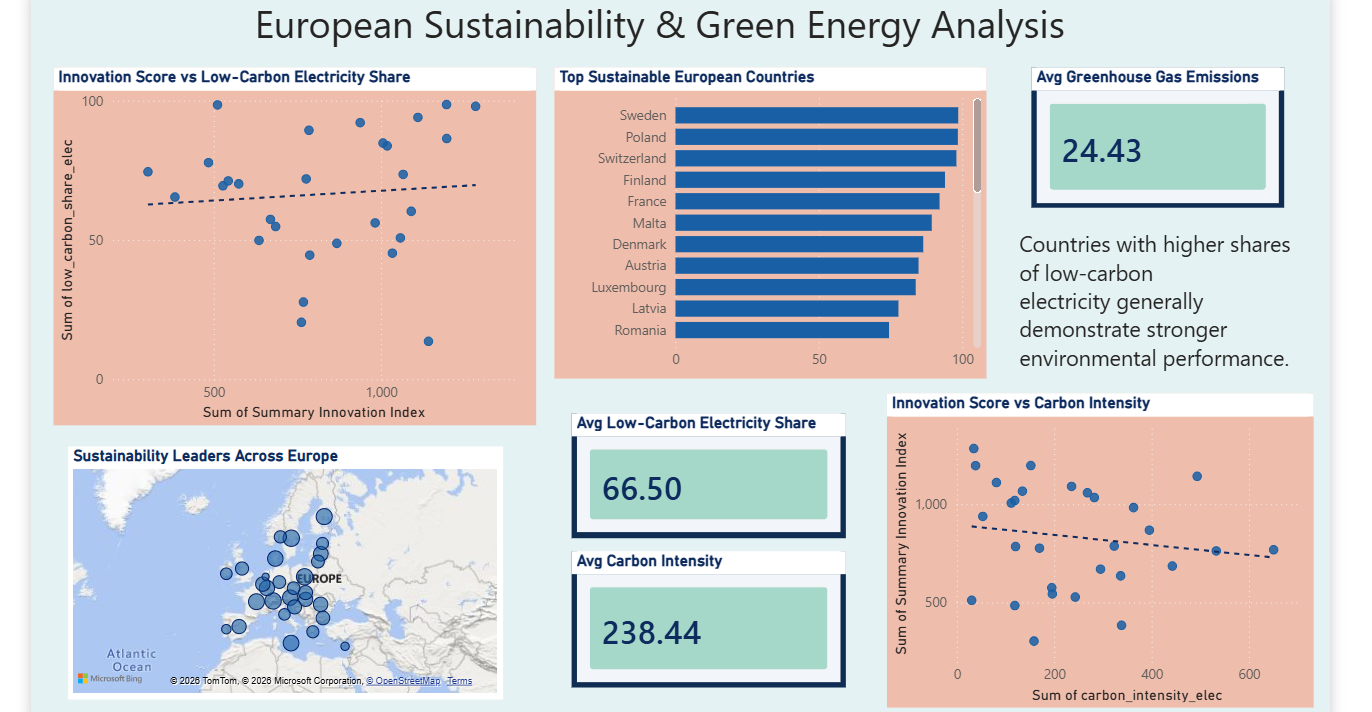

The dashboard page shown, as its layout file describes it:
{"tool":"powerbi","page":{"name":"Page 2","canvas":[1280,720],"ordinal":1},"visuals":[{"type":"scatterChart","title":"Innovation Score vs Low-Carbon Electricity Share","fields":{"Category":["Sheet2.Country name"],"X":["Sum(Sheet2.Summary Innovation Index)"],"Y":["Sum(Sheet2.low_carbon_share_elec)"]},"box":[22.2,74.4,475.1,352.4],"z":0},{"type":"barChart","title":"Top Sustainable European Countries","fields":{"Category":["Sheet2.Country name"],"Y":["Sum(Sheet2.low_carbon_share_elec)"]},"box":[515.6,74.4,425.5,306.7],"z":1000},{"type":"map","title":"Sustainability Leaders Across Europe","fields":{"Category":["Sheet2.Country name"],"Size":["Sum(Sheet2.low_carbon_share_elec)"]},"box":[36.5,447.7,428.1,248],"z":2000},{"type":"scatterChart","title":"Innovation Score vs Carbon Intensity","fields":{"Category":["Sheet2.Country name"],"Y":["Sum(Sheet2.Summary Innovation Index)"],"X":["Sum(Sheet2.carbon_intensity_elec)"]},"box":[843.2,395.5,420.3,309.4],"z":3000},{"type":"cardVisual","title":"Avg Low-Carbon Electricity Share","fields":{"Data":["Avg(Sheet2.low_carbon_share_elec)"]},"box":[532.6,415.1,270.2,122.7],"z":4000},{"type":"cardVisual","title":"Avg Carbon Intensity","fields":{"Data":["Avg(Sheet2.carbon_intensity_elec)"]},"box":[532.6,550.8,270.2,134.4],"z":5000},{"type":"cardVisual","title":"Avg Greenhouse Gas Emissions","fields":{"Data":["Avg(Sheet2.greenhouse_gas_emissions)"]},"box":[985.5,74.4,249.3,138.4],"z":6000},{"type":"textbox","box":[215.4,0,982.9,74.4],"z":7000},{"type":"textbox","box":[968.5,228.4,295,152.7],"z":8000}]}

Visuals, with their boxes on the page's 1280x720 design canvas (x1, y1, x2, y2). These are canvas units, not pixel positions in the 1372x712 screenshot, which may show the page scaled, cropped or inside an application window:
"Innovation Score vs Low-Carbon Electricity Share" scatterChart: <region>22, 74, 497, 427</region>
"Top Sustainable European Countries" barChart: <region>516, 74, 941, 381</region>
"Sustainability Leaders Across Europe" map: <region>36, 448, 465, 696</region>
"Innovation Score vs Carbon Intensity" scatterChart: <region>843, 396, 1264, 705</region>
"Avg Low-Carbon Electricity Share" cardVisual: <region>533, 415, 803, 538</region>
"Avg Carbon Intensity" cardVisual: <region>533, 551, 803, 685</region>
"Avg Greenhouse Gas Emissions" cardVisual: <region>986, 74, 1235, 213</region>
textbox: <region>215, 0, 1198, 74</region>
textbox: <region>968, 228, 1264, 381</region>
